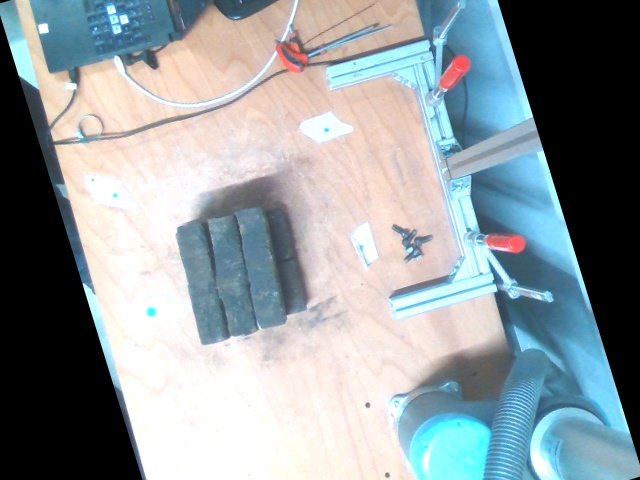brick-side: (237, 208, 284, 326), (207, 214, 254, 332), (177, 223, 222, 345)
